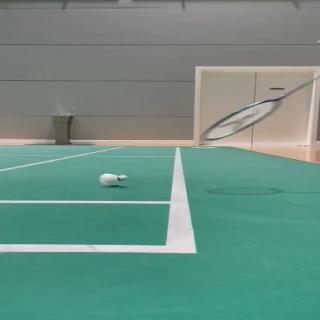Shuttle: (99, 173, 128, 186)
